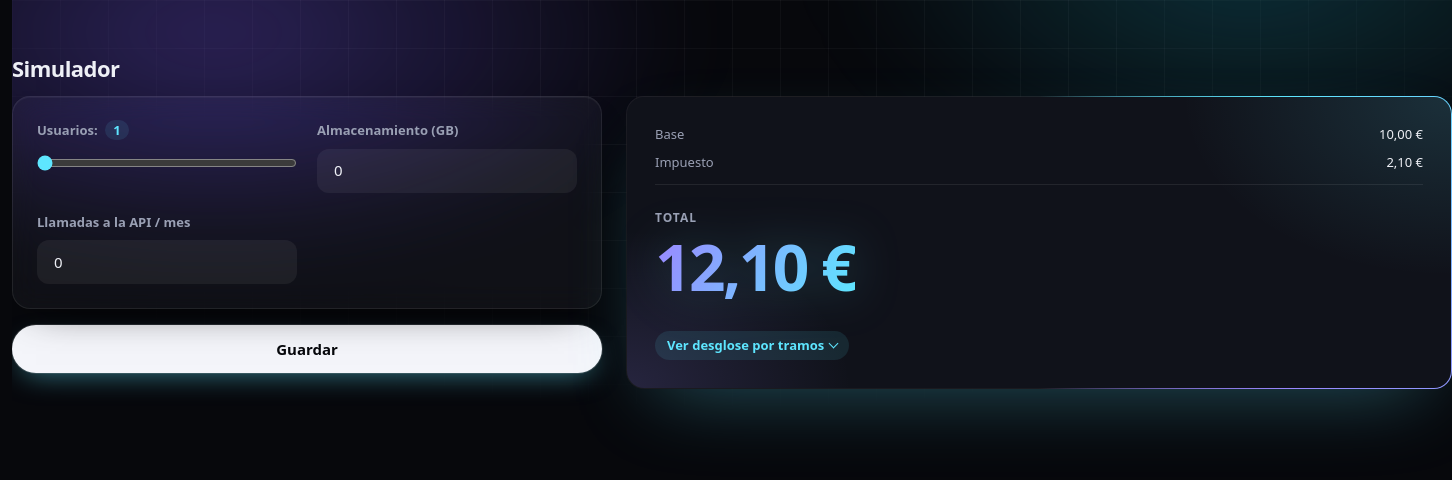
Test: Simulator › un valor no válido () marca el campo, no lanza preview y mantiene la proyección
Clear the number field labelled "Almacenamiento (GB)" at [447, 171], box top-left (317, 149), bottom-right (577, 193)
Wait 250 ms
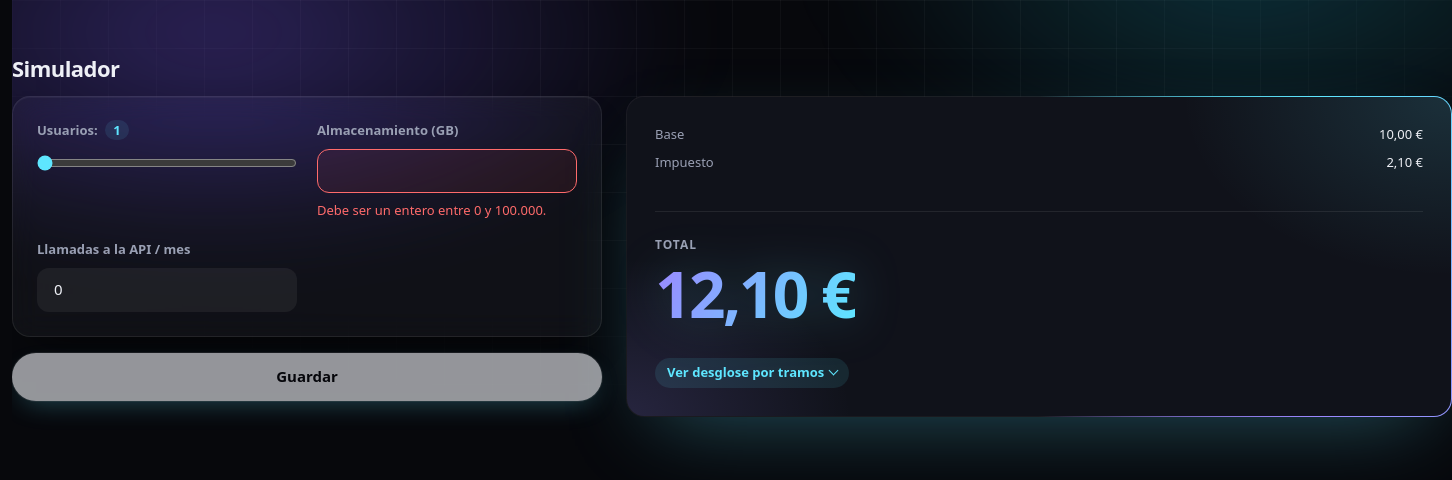
Now the text "Debe ser un entero entre 0 y 100.000." is shown, box top-left (317, 201), bottom-right (577, 220)
